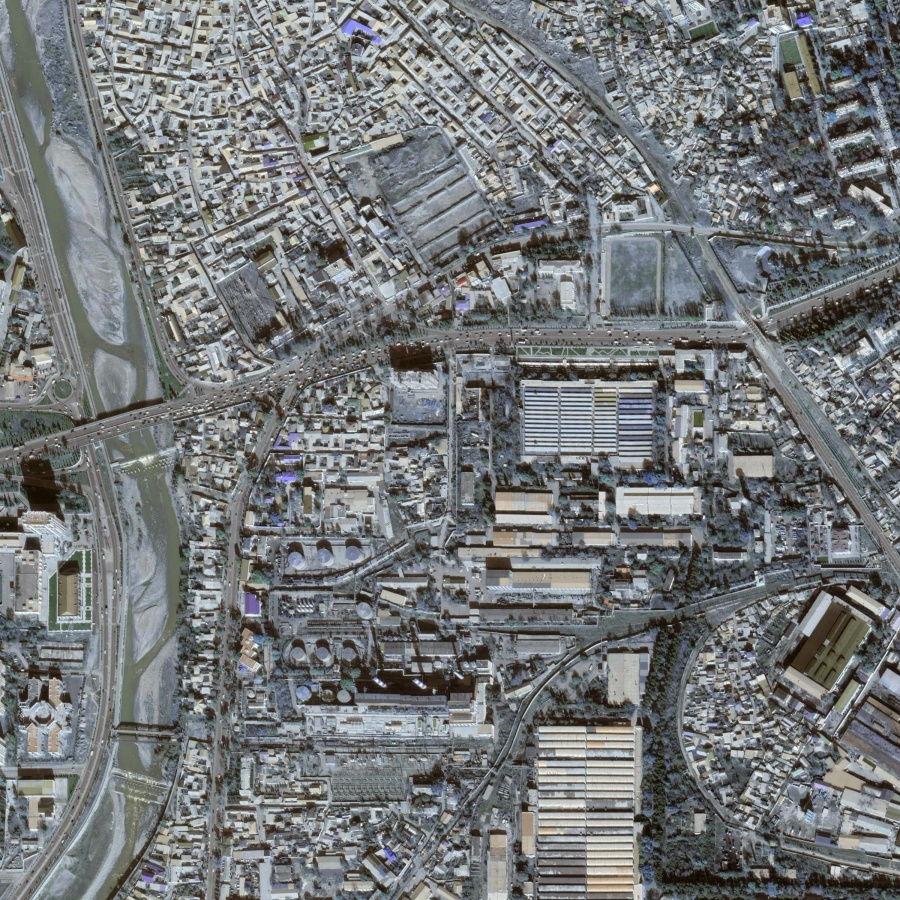PowerPlant: (278, 592, 499, 803)
